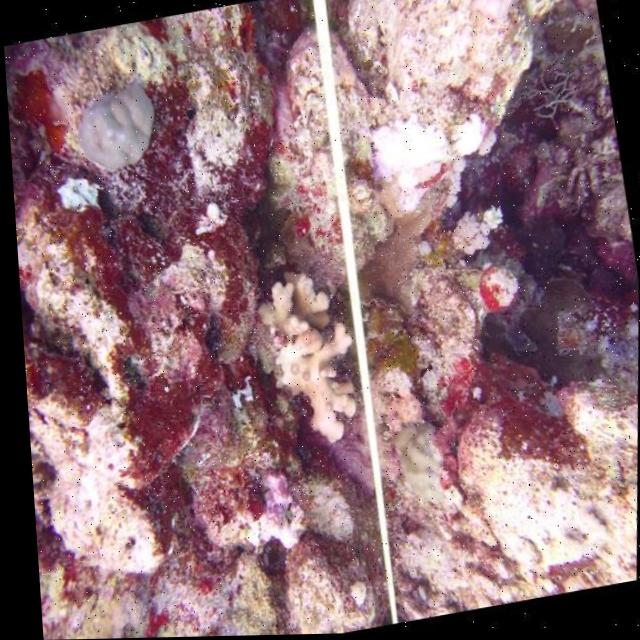Bleached Coral: (228, 242, 381, 452), (305, 74, 520, 220), (405, 186, 523, 297), (203, 460, 314, 571), (437, 0, 551, 74), (42, 166, 107, 222)
